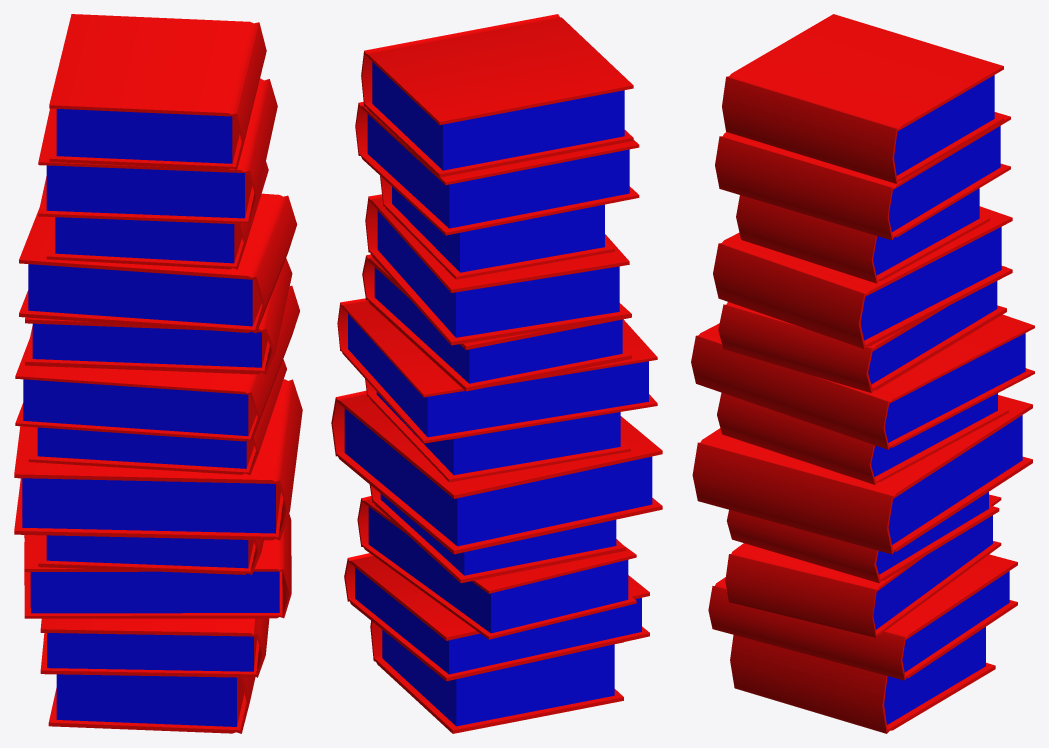
File: StackUp2.fbx
3 renders of one model, left to right at view 1: azimuth 30°, elevation 25°; view 2: azimuth 150°, elevation 25°; view 3: azimuth 270°, elevation 25°, orthographic. The views are drawn at different scales.
Visible parts, largest first — view 1: book.046; view 2: book.046; view 3: book.046.
Part boxes in pixels (x1,y1,x2,y2): book.046: [14, 14, 302, 733]; book.046: [331, 14, 662, 733]; book.046: [691, 14, 1034, 733].
Bounding box in the file's own units: 81.08 × 155 × 79.43.
